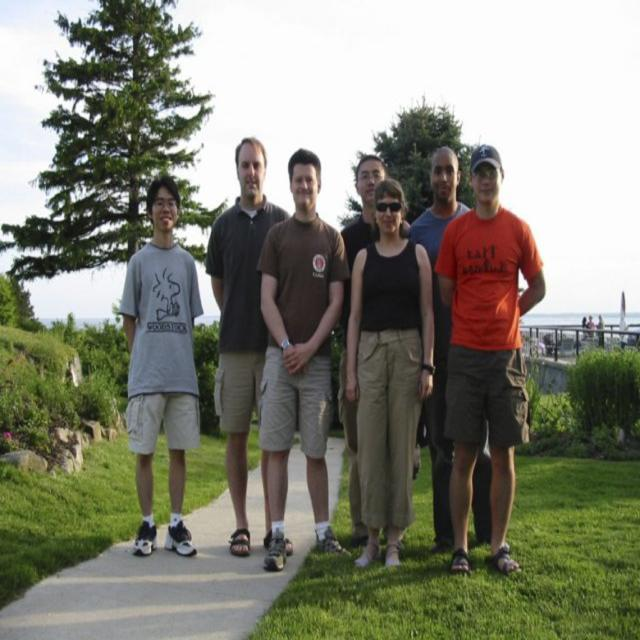body: (433, 142, 548, 580), (254, 145, 356, 575), (204, 135, 295, 560), (343, 178, 438, 577), (405, 145, 495, 559), (116, 173, 204, 561), (339, 153, 414, 553), (617, 314, 630, 351), (581, 316, 591, 351), (595, 314, 605, 348), (585, 314, 598, 338)
